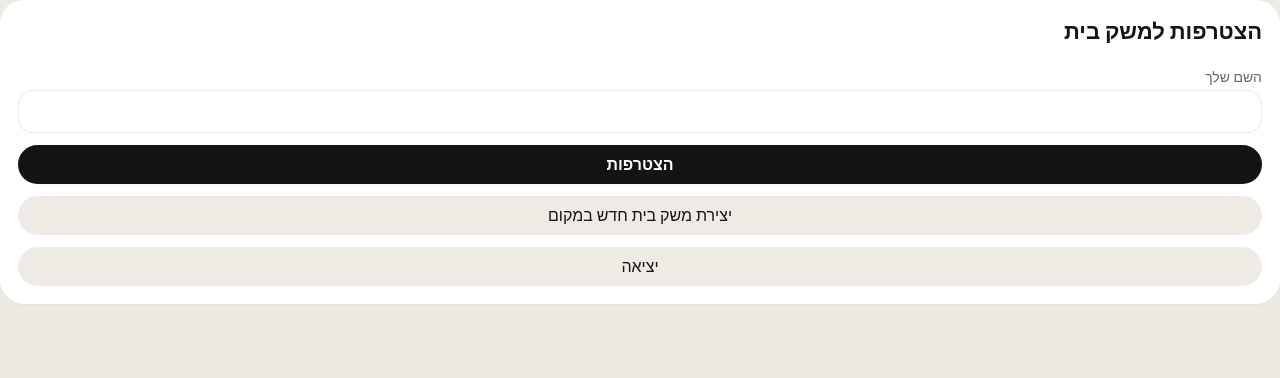
Test: an invalid invite reports it, drops the pending token, and offers a way out
This screenshot has width=1280, height=378.
Later steps or results of the test are not shown.
Type "ג" into the field labelled "השם שלך" at (640, 112), box [18,90,1262,133]
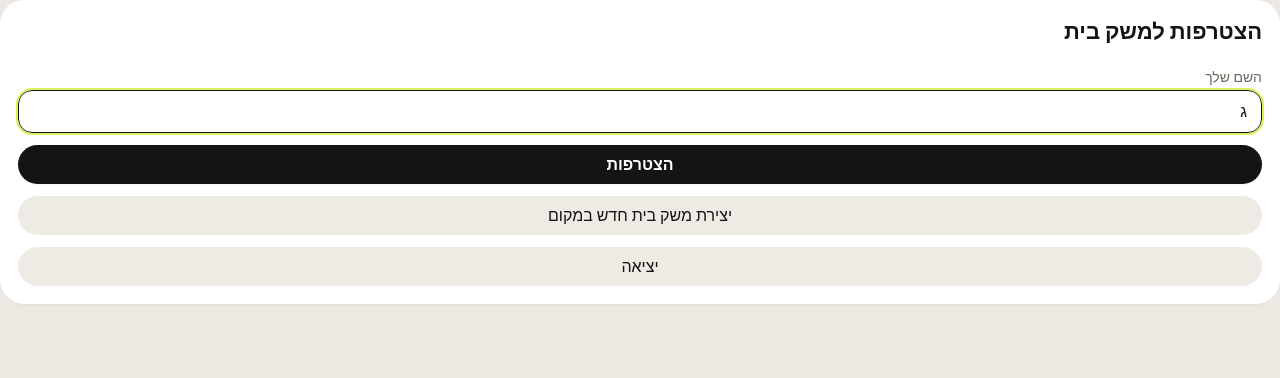
Click the button "הצטרפות" at (640, 164), box [18,145,1262,184]
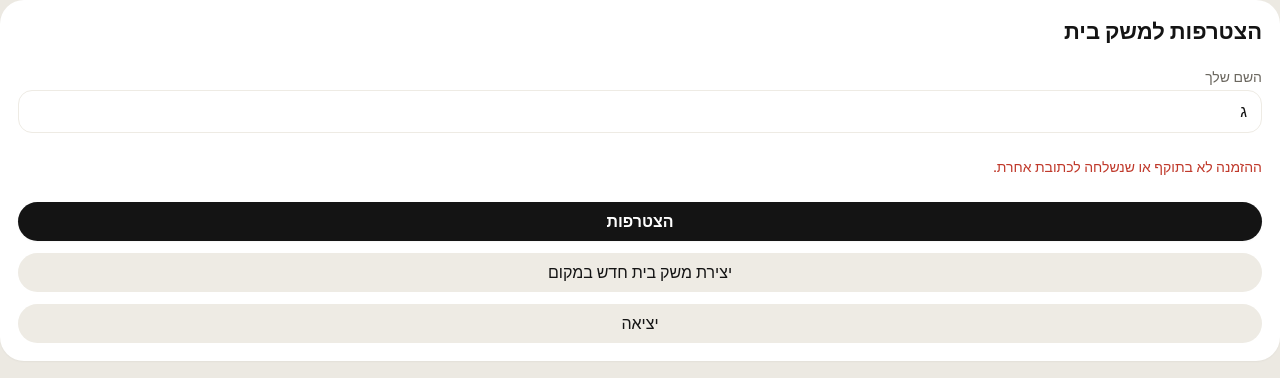
Result: the text "ההזמנה לא בתוקף או שנשלחה לכתובת אחרת." is shown at [993,159,1262,176]
